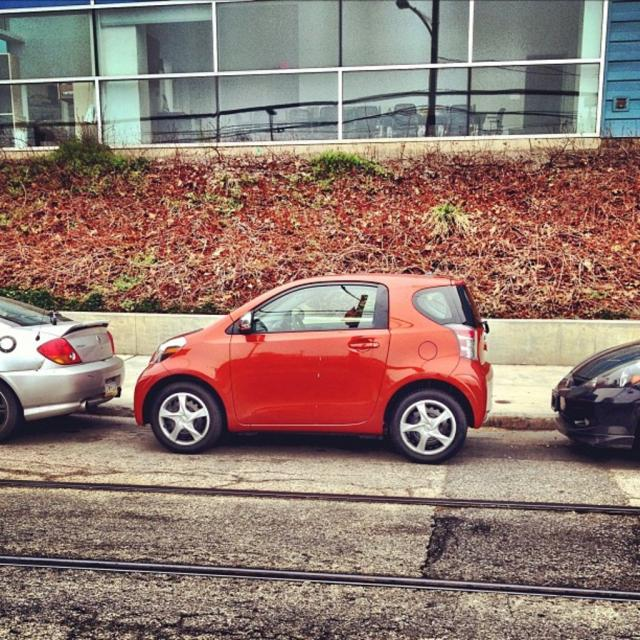car: (131, 280, 492, 459)
